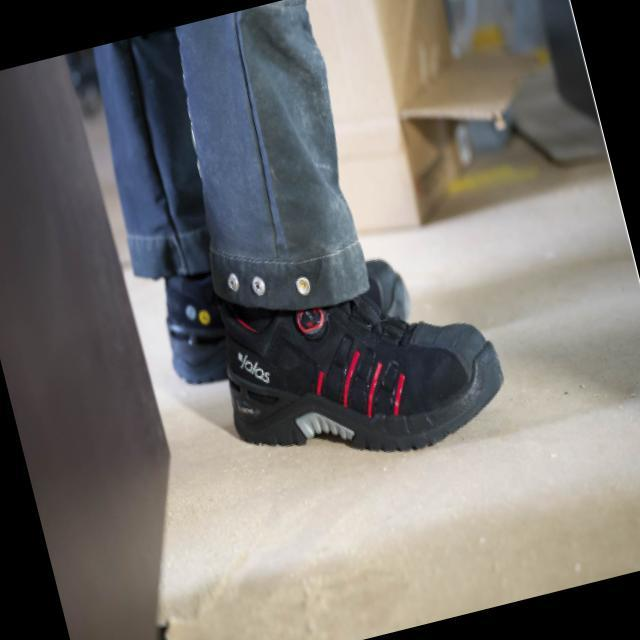boots: (132, 142, 521, 507)
